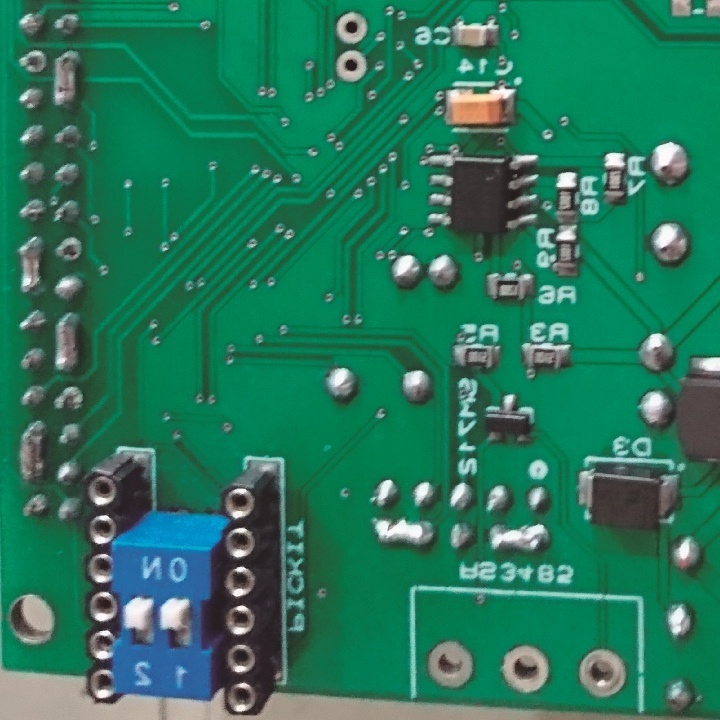F: (575, 648, 628, 700), (425, 639, 476, 693), (500, 643, 551, 695), (331, 49, 370, 86), (334, 9, 367, 45), (52, 384, 87, 414), (16, 48, 47, 77), (52, 235, 83, 264)
P: (49, 309, 81, 375), (373, 517, 434, 550), (489, 524, 547, 558), (52, 47, 81, 112), (19, 419, 44, 487), (16, 235, 42, 296)
